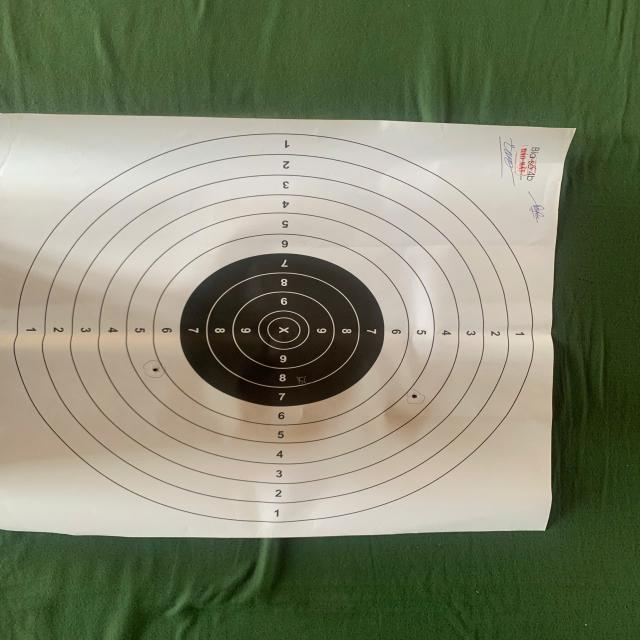bullet: (152, 368, 160, 372), (300, 376, 304, 384), (412, 394, 417, 398)
target: (0, 112, 559, 540)
